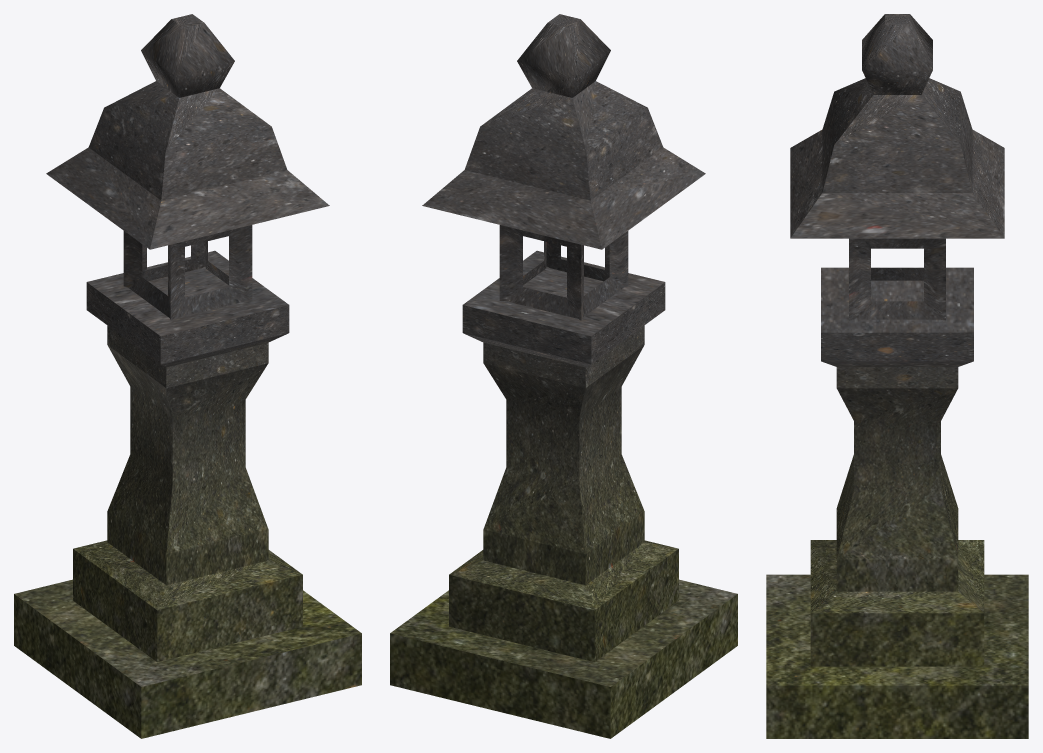
File: stone_lantern.fbx
3 renders of one model, left to right at view 1: azimuth 30°, elevation 25°; view 2: azimuth 150°, elevation 25°; view 3: azimuth 270°, elevation 25°, orthographic. The views are drawn at different scales.
Parts seen in each view (by area): view 1: Cube; view 2: Cube; view 3: Cube.
Part boxes in pixels (x1,y1,x2,y2): Cube: [14, 14, 361, 738]; Cube: [390, 14, 737, 738]; Cube: [766, 14, 1028, 738].
Bounding box in the file's own units: 82.18 × 229 × 82.18.
1 material, 1 textured.
